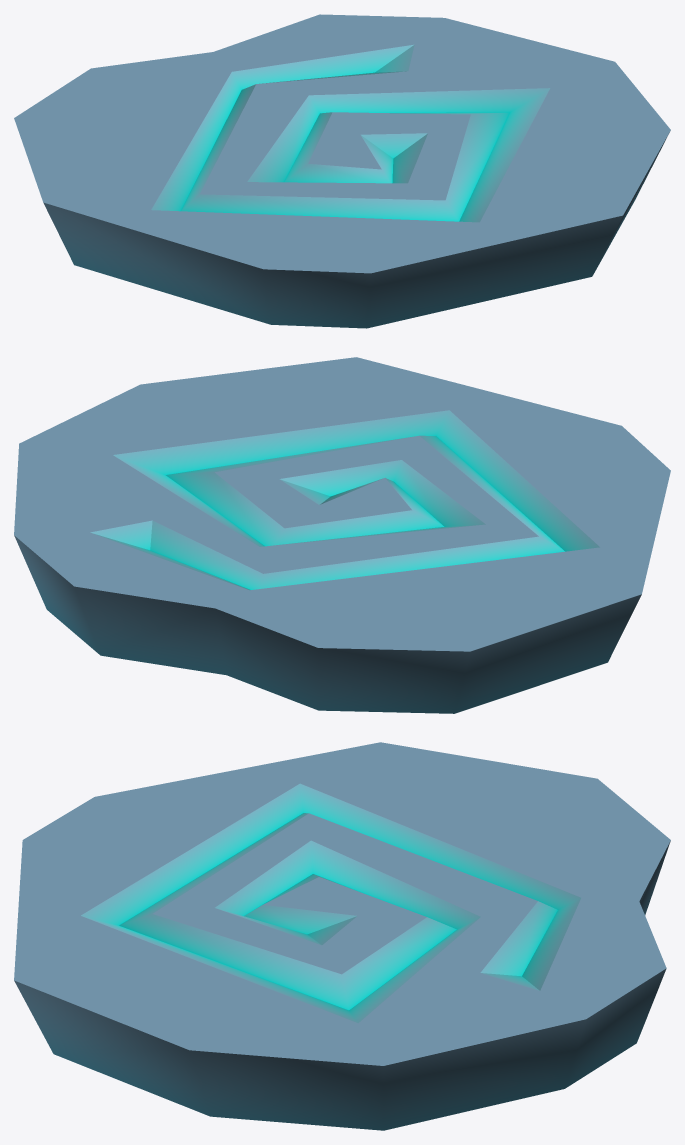
Rendered from obstacle-geysir-lid_H3.glb.
3 views of the same model, one above another, from view 1: azimuth 30°, elevation 25°; view 2: azimuth 150°, elevation 25°; view 3: azimuth 270°, elevation 25° (orthographic). The views are drawn at different scales.
Parts seen in each view (by area): view 1: obstacle-geysir-lid_H3; view 2: obstacle-geysir-lid_H3; view 3: obstacle-geysir-lid_H3.
Boxes of the visible parts, x1,y1,x2,y2 form: obstacle-geysir-lid_H3: [14, 14, 670, 328]; obstacle-geysir-lid_H3: [14, 357, 670, 713]; obstacle-geysir-lid_H3: [14, 742, 670, 1130].
Size of the model in its own units: 2.03 by 0.2382 by 1.74.
